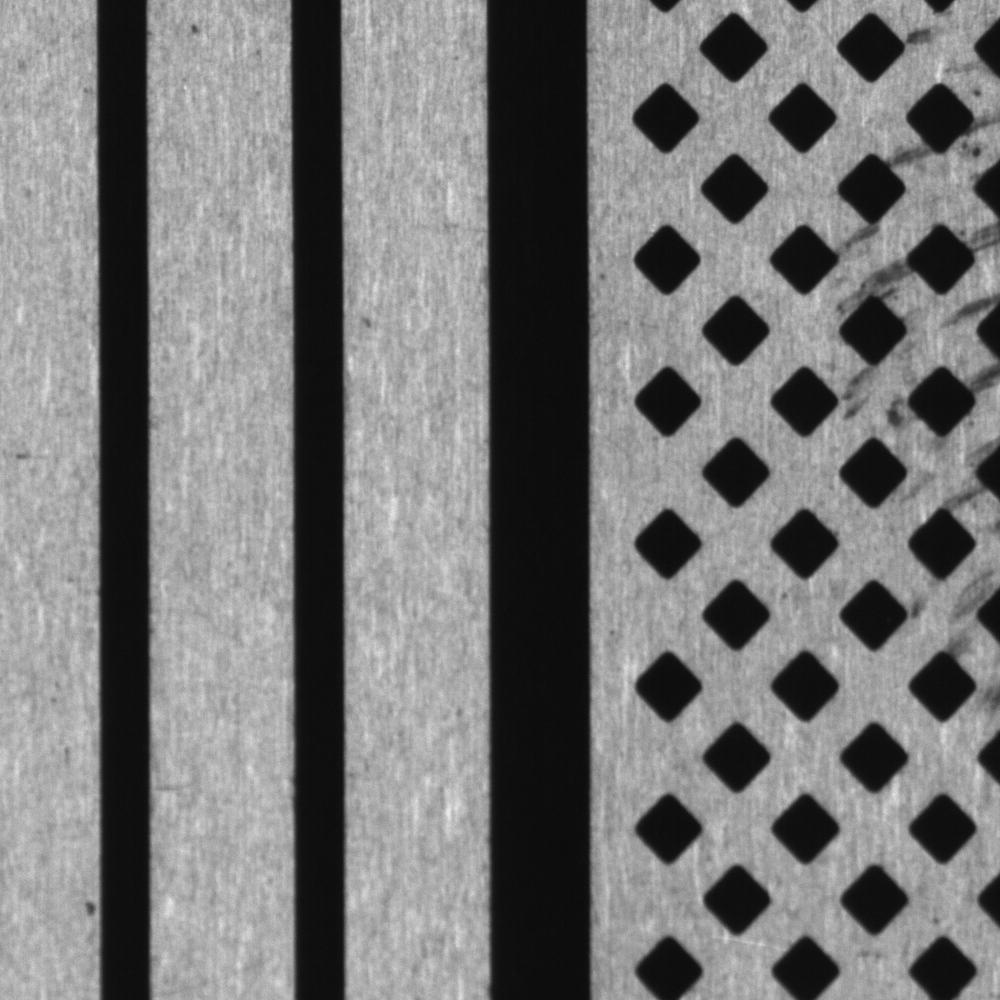Etching: (952, 563, 999, 719), (925, 427, 1000, 514), (829, 354, 893, 429), (826, 210, 889, 266), (898, 11, 979, 52), (948, 212, 999, 271), (920, 290, 1000, 323), (881, 137, 935, 175), (11, 442, 56, 470), (75, 886, 100, 932), (353, 307, 387, 337)
Pinhole: (183, 17, 209, 38)
